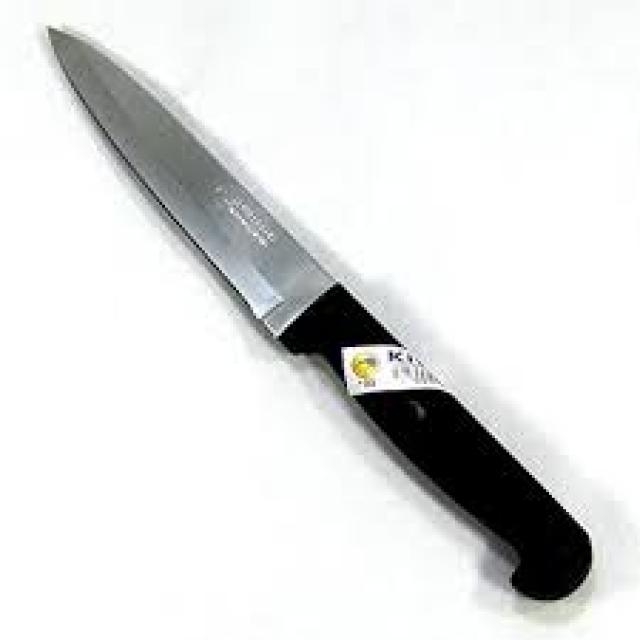Knife: (48, 23, 597, 600)
